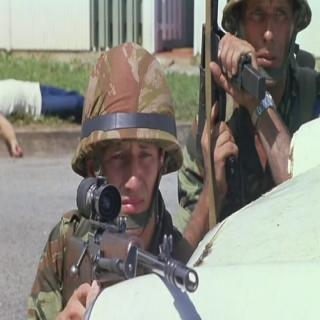gun: (59, 176, 199, 298), (191, 1, 265, 181)
